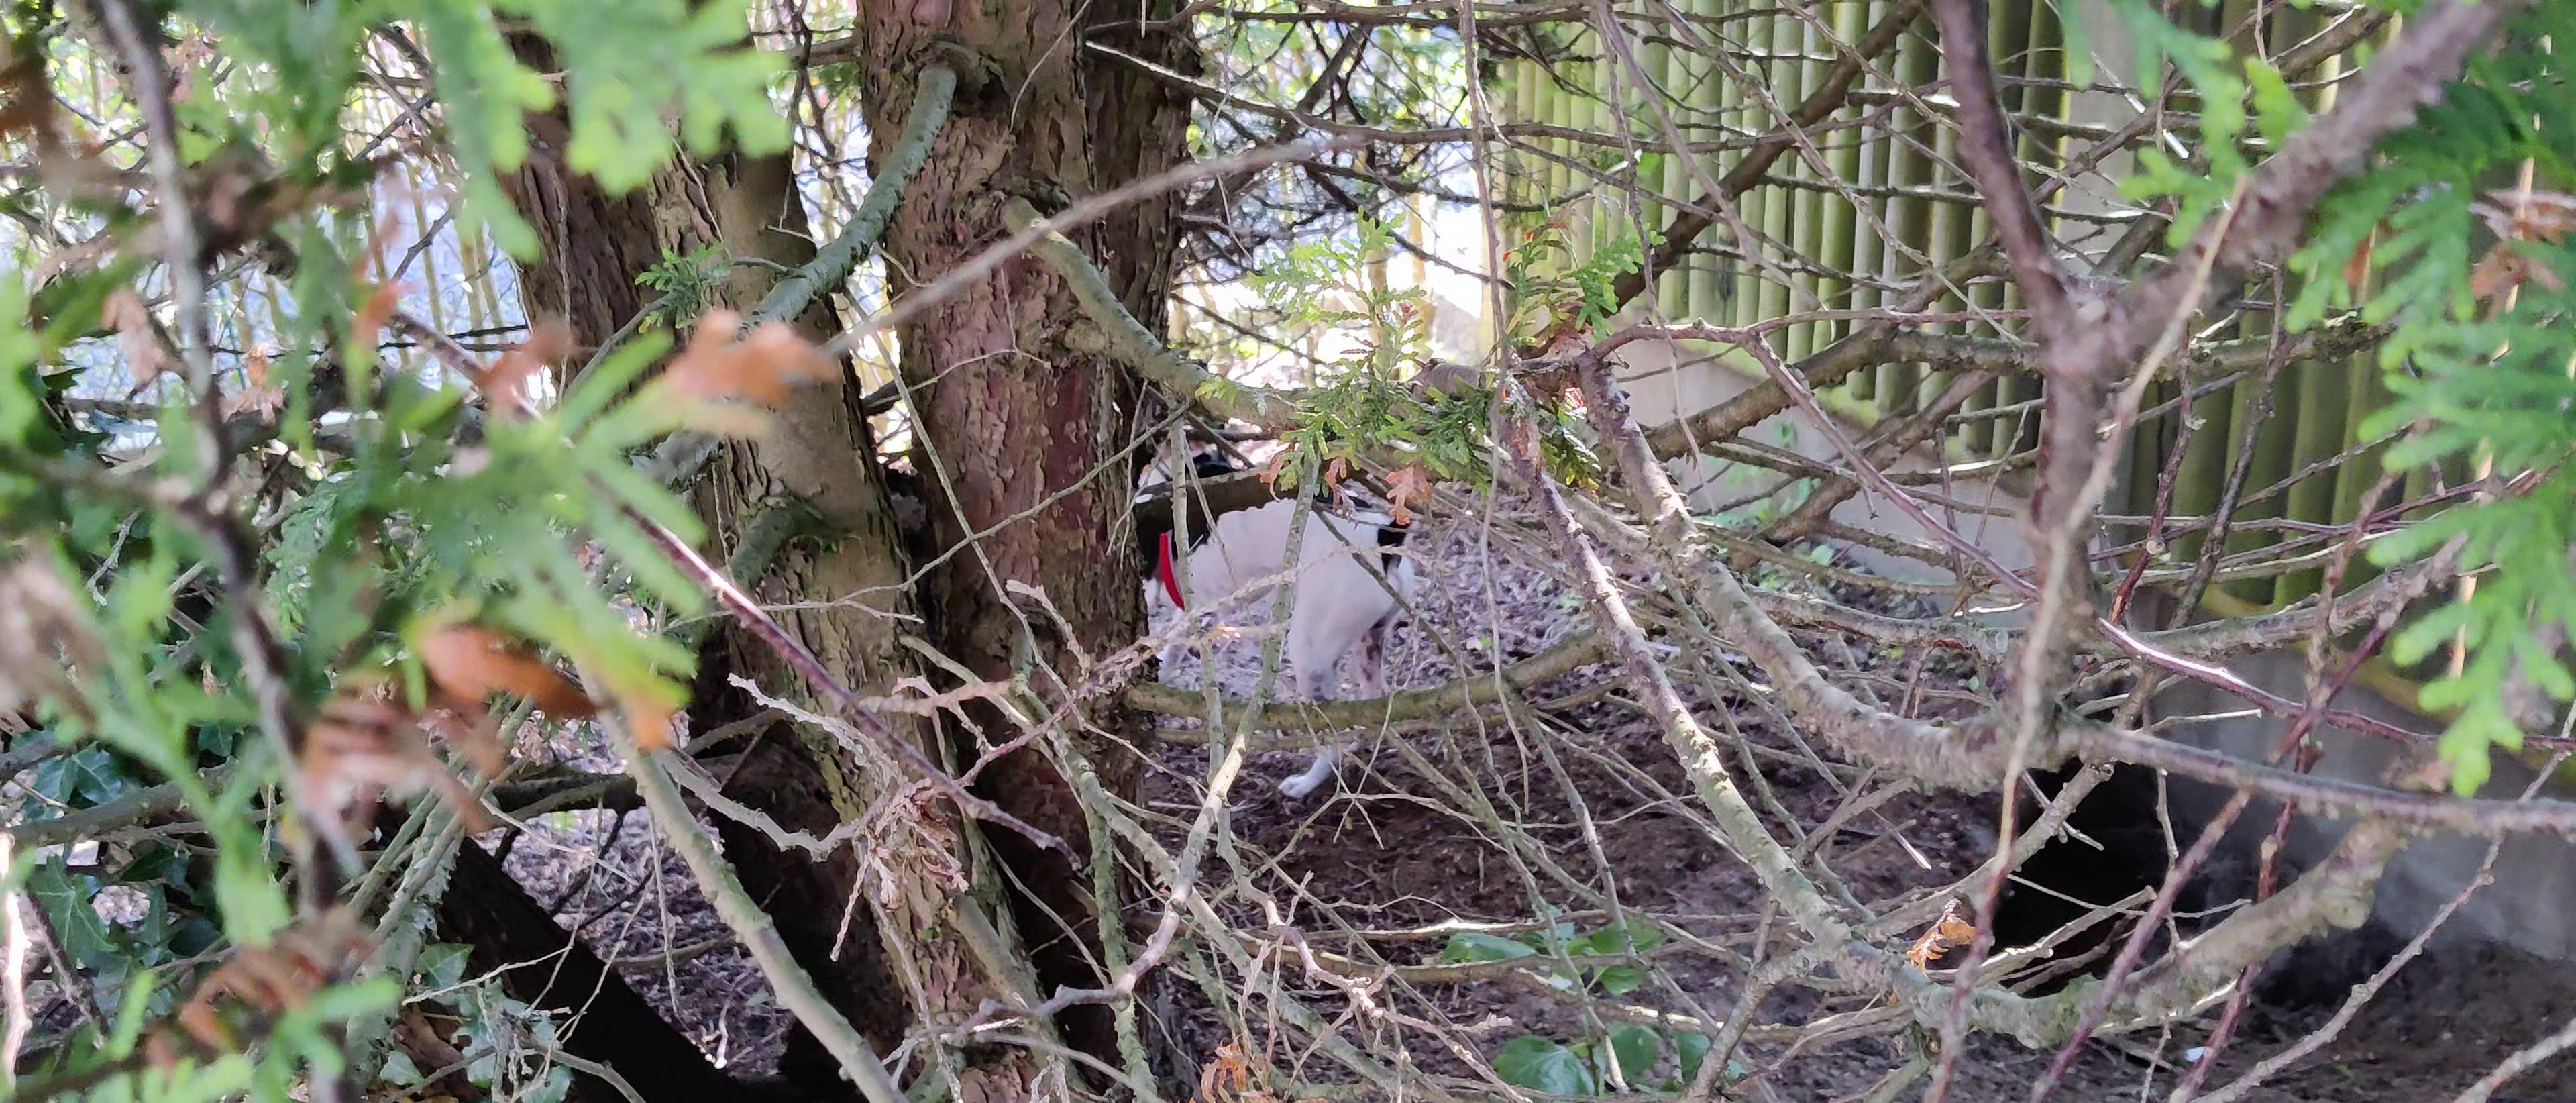Dog: (1106, 395, 1434, 807)
